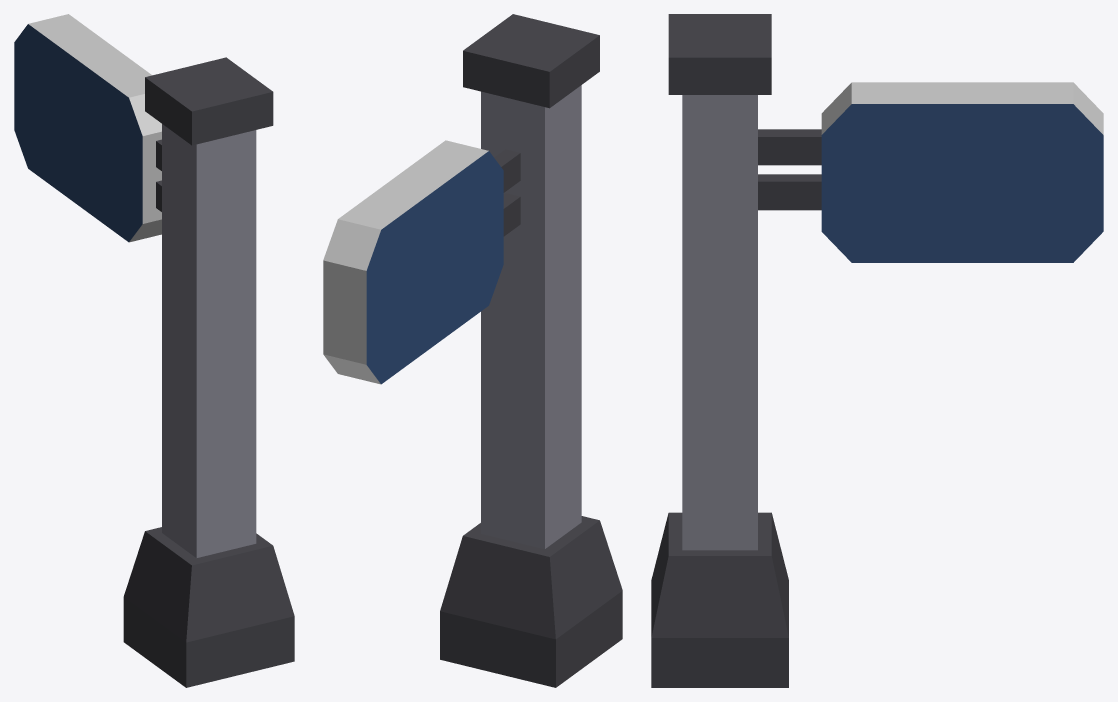
The model's file is PolePillar.fbx.
3 views of the same model, side by side, from view 1: azimuth 30°, elevation 25°; view 2: azimuth 150°, elevation 25°; view 3: azimuth 270°, elevation 25° (orthographic). The views are drawn at different scales.
Parts seen in each view (by area): view 1: PolePillar; view 2: PolePillar; view 3: PolePillar.
Boxes of the visible parts, box(x1,y1,x2,y2) form: PolePillar: box(14, 14, 294, 687); PolePillar: box(323, 14, 622, 687); PolePillar: box(651, 14, 1103, 687).
Bounding box in the file's own units: 30 × 150 × 98.64.
